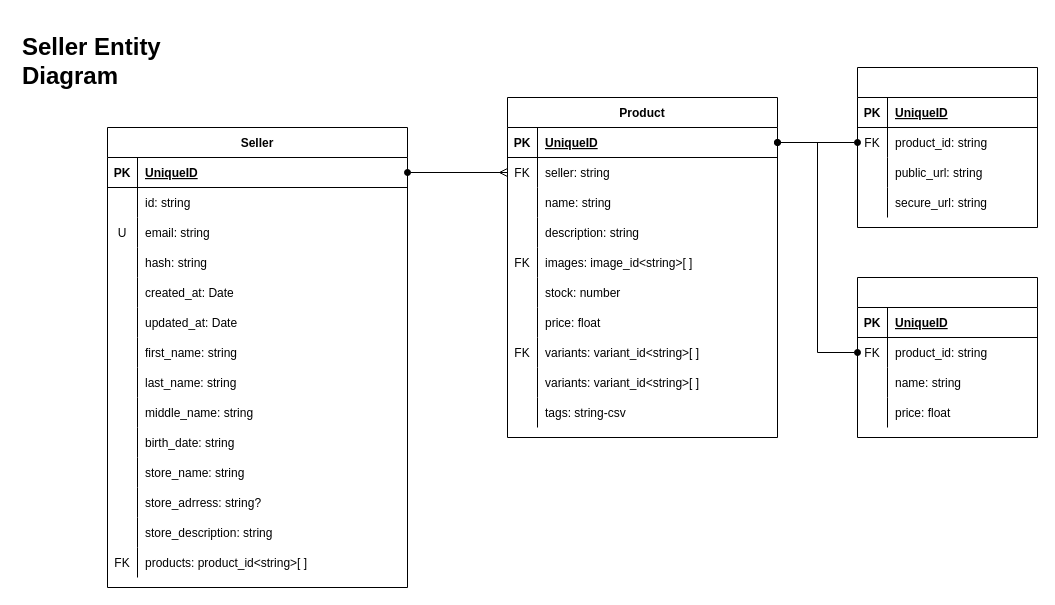
Image size: 1055x605. Some labels were removed from this diagram. Each missing label, with the box of its shape:
Image: (856, 66, 1038, 228)
Variant: (856, 276, 1038, 438)
